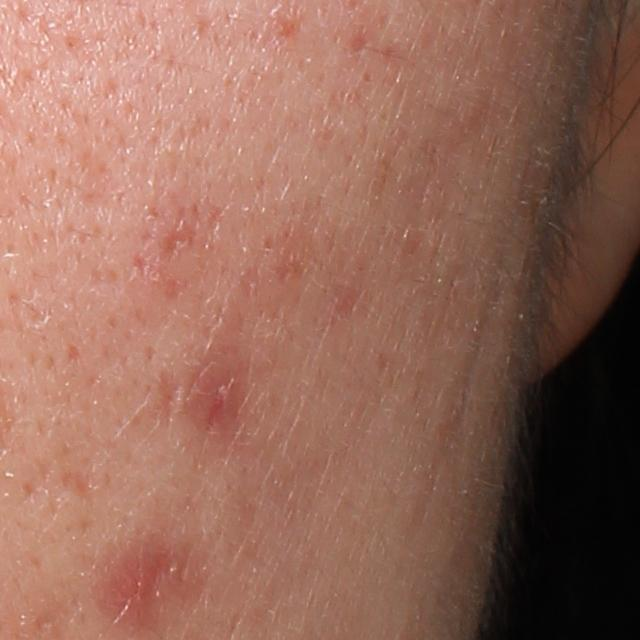atrophic_scar: (161, 224, 199, 264), (157, 371, 181, 432), (61, 469, 96, 499)
